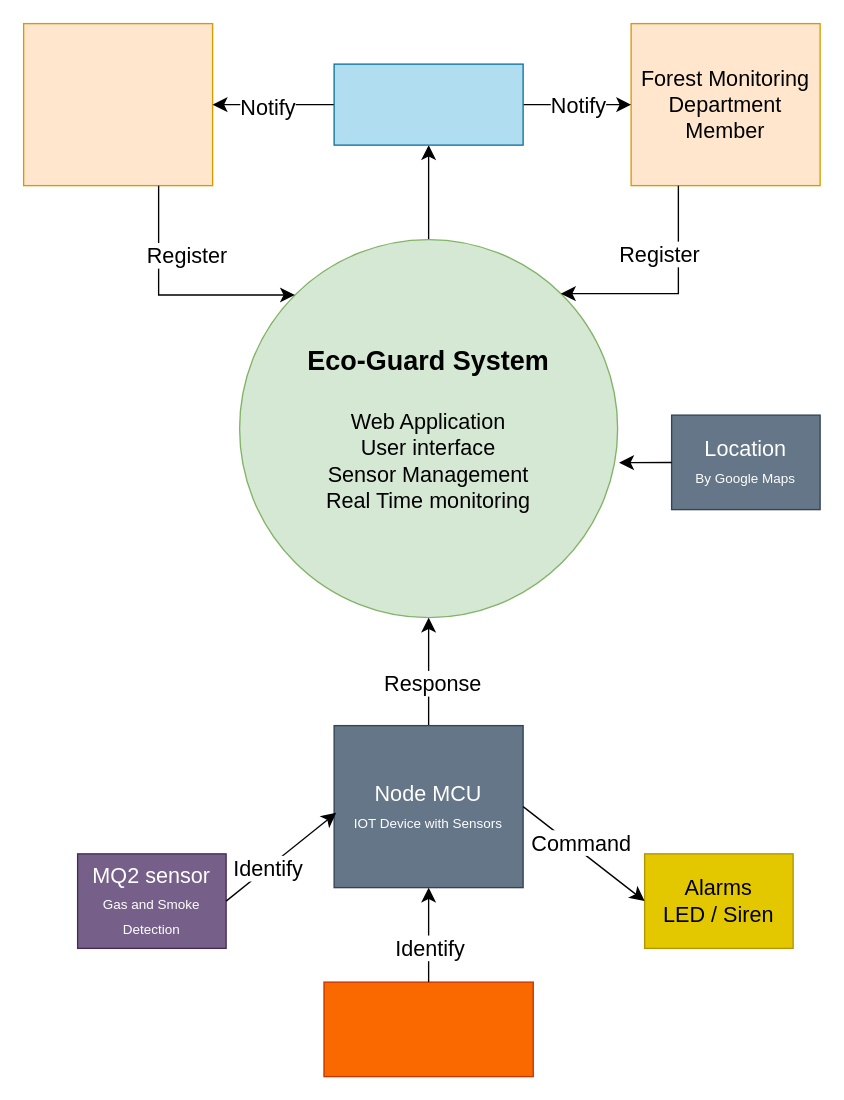
This 844x1100 diagram has some shape labels left out. The centre of each missing label's shape, as x and y in pixels:
"Flame Detection sensor" goes at (428,1029).
"Notification system" goes at (428,104).
"Users" goes at (117,104).
